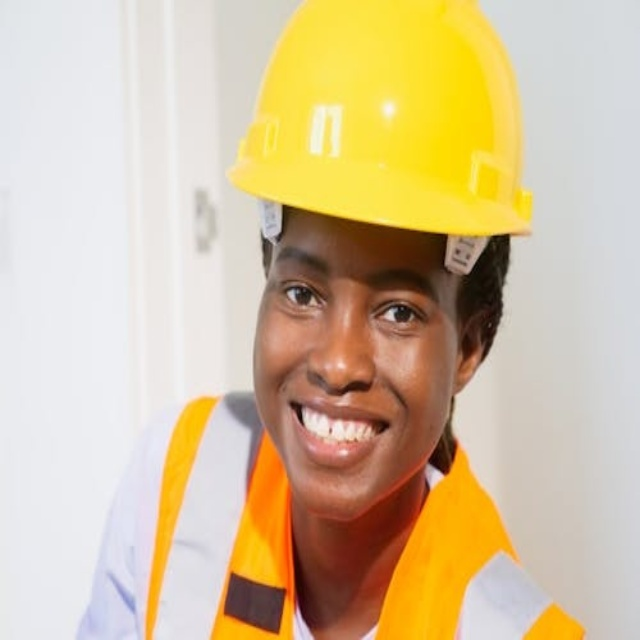Sin_gafas: (270, 241, 442, 348)
Sin_mascara: (276, 382, 401, 507)
